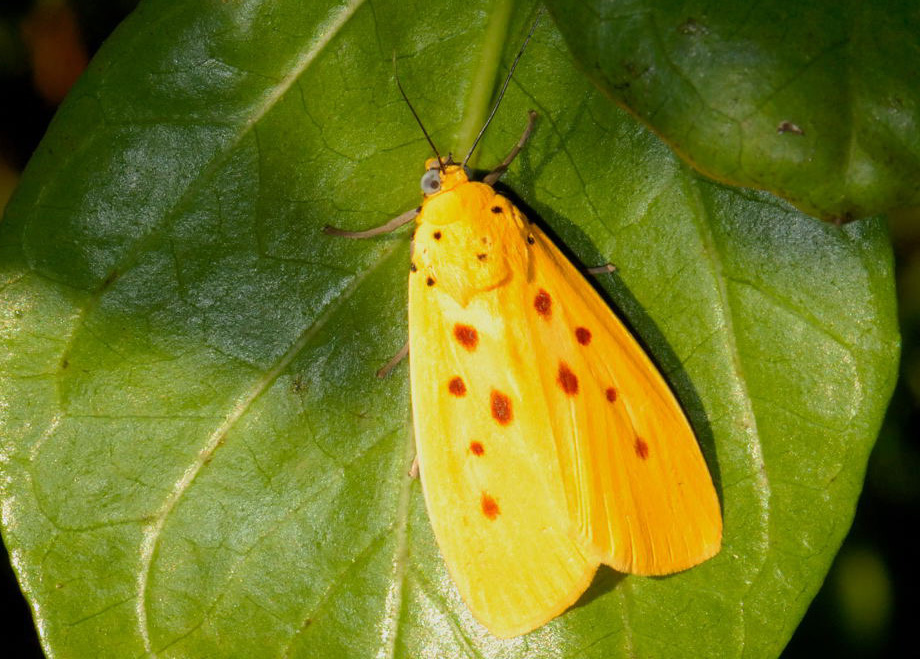Agape chloropyga: (320, 16, 728, 644)
moth: (322, 18, 730, 646)
